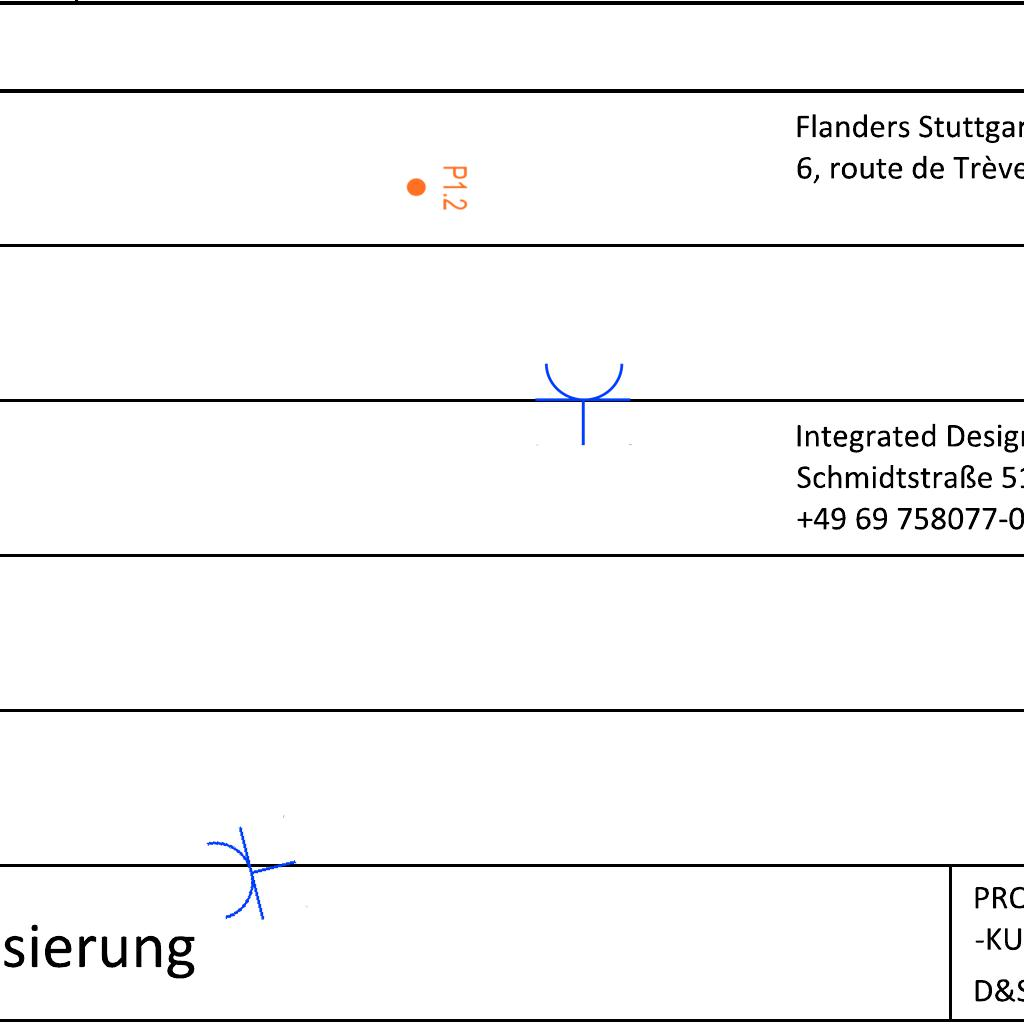Downlight_LED_Einbauleuchten_Flur: (405, 165, 469, 211)
Schukosteckdose_einfach: (199, 812, 309, 931), (534, 359, 634, 446)
